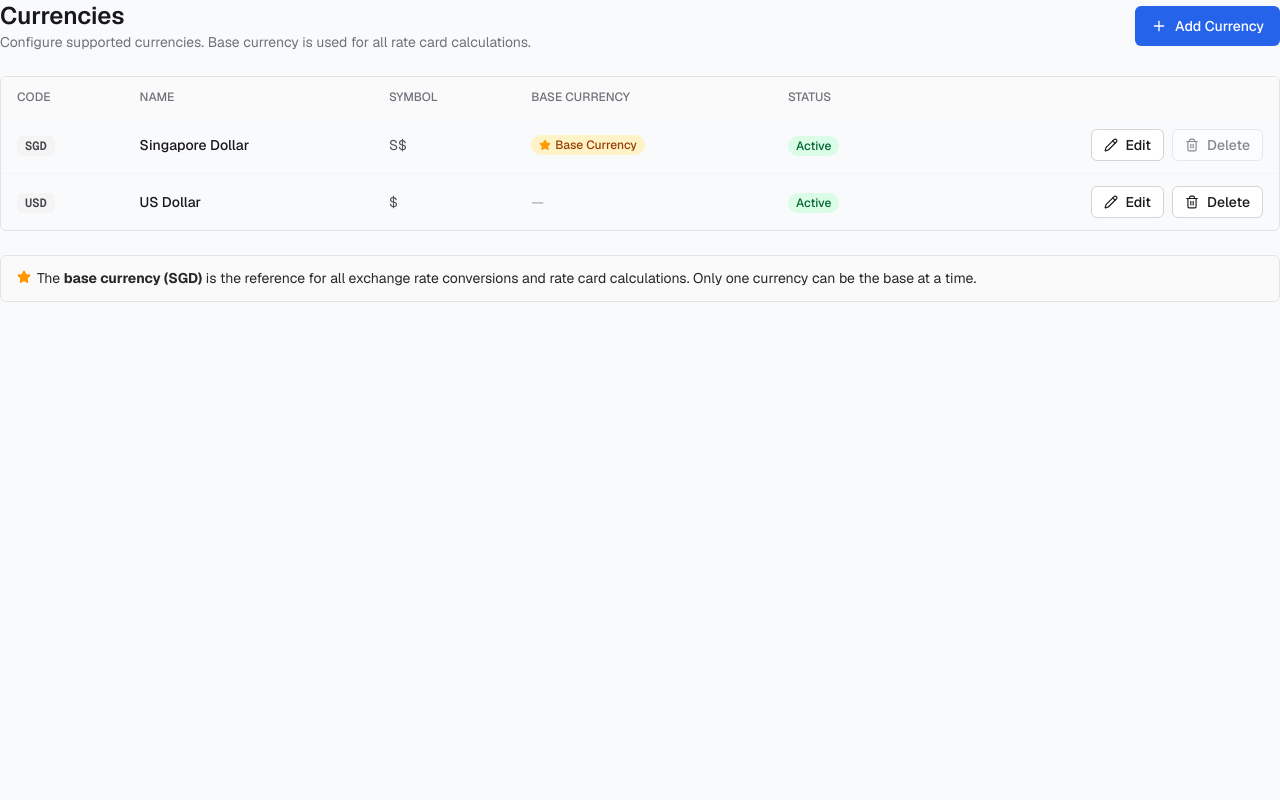
Test case: CurrenciesTable › opens the Add Currency modal when the header button is clicked
This screenshot has width=1280, height=800.
Expected: the text "Singapore Dollar" is shown, [124, 117, 373, 174]
Click the button "Add Currency". click: (1208, 26)
box: [1135, 6, 1279, 46]
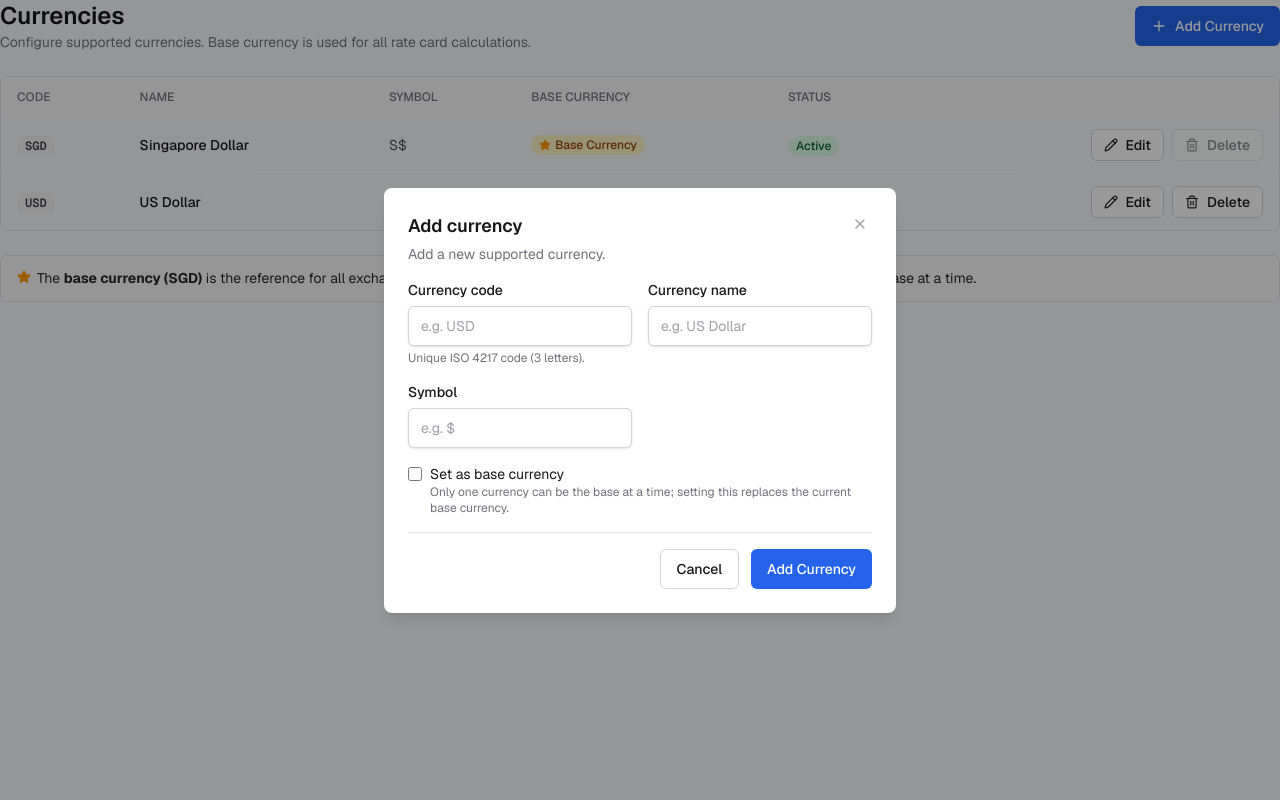
Expected: the heading "Add currency" is shown, [408, 214, 522, 236]
